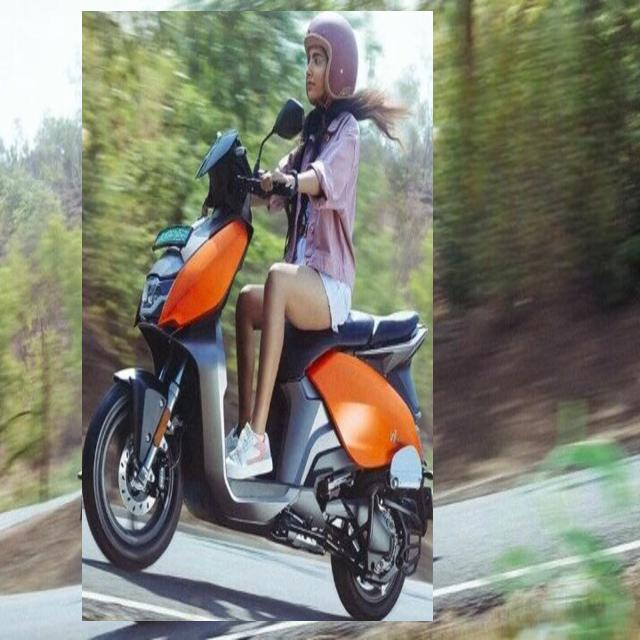motorcycle: (82, 11, 432, 621)
